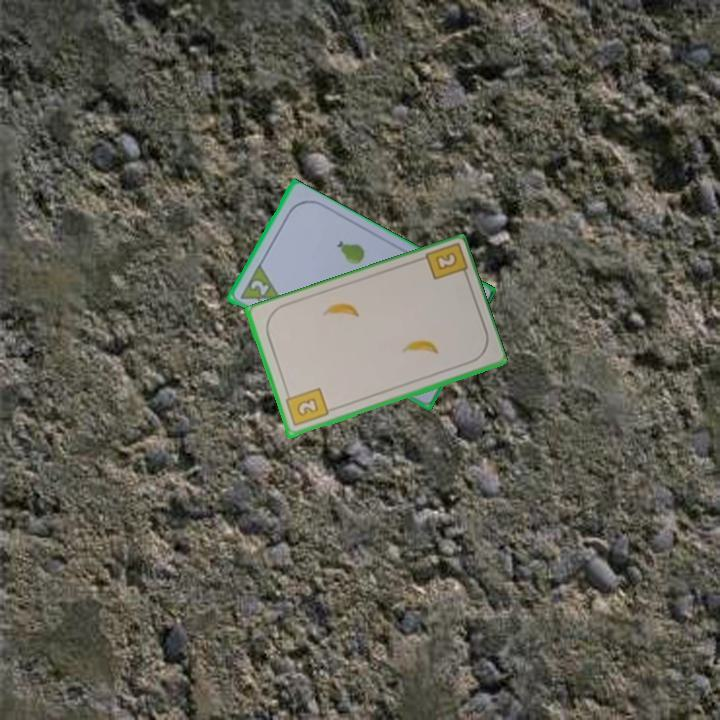2b: (282, 385, 331, 429), (420, 242, 470, 284)
2p: (246, 276, 271, 298)
